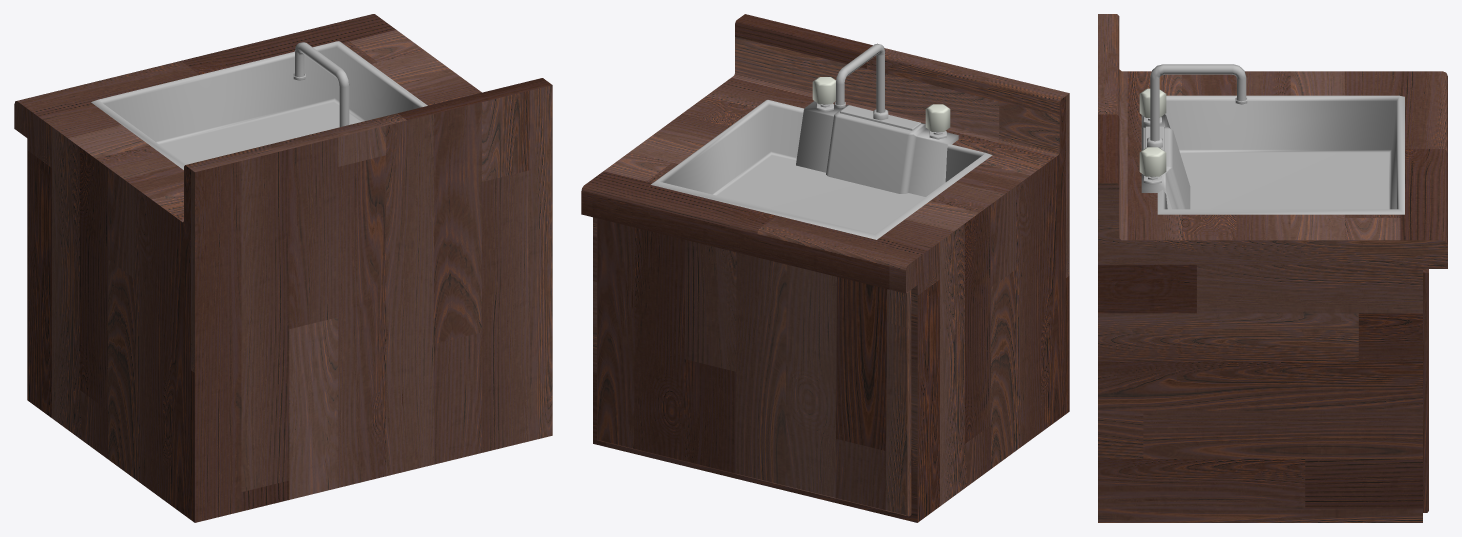
The model's file is SimpleSink.fbx.
3 renders of one model, left to right at view 1: azimuth 30°, elevation 25°; view 2: azimuth 150°, elevation 25°; view 3: azimuth 270°, elevation 25°, orthographic. The views are drawn at different scales.
Visible parts, largest first — view 1: Sink, Sinkbasin; view 2: Sink, Sinkbasin; view 3: Sink, Sinkbasin.
Boxes of the visible parts, box(x1,y1,x2,y2) form: Sink: box(14, 14, 552, 522); Sinkbasin: box(91, 41, 427, 169); Sink: box(581, 14, 1069, 522); Sinkbasin: box(651, 43, 992, 239); Sink: box(1098, 14, 1447, 522); Sinkbasin: box(1139, 64, 1404, 214).
Size of the model in its own units: 150 by 154 by 131.
